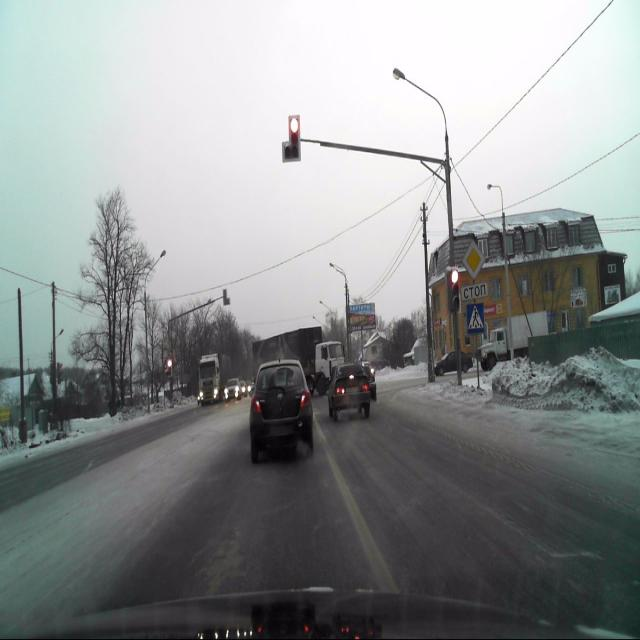object: (475, 336, 480, 388)
road sign: (462, 242, 484, 281), (466, 302, 484, 332), (461, 285, 488, 302)
